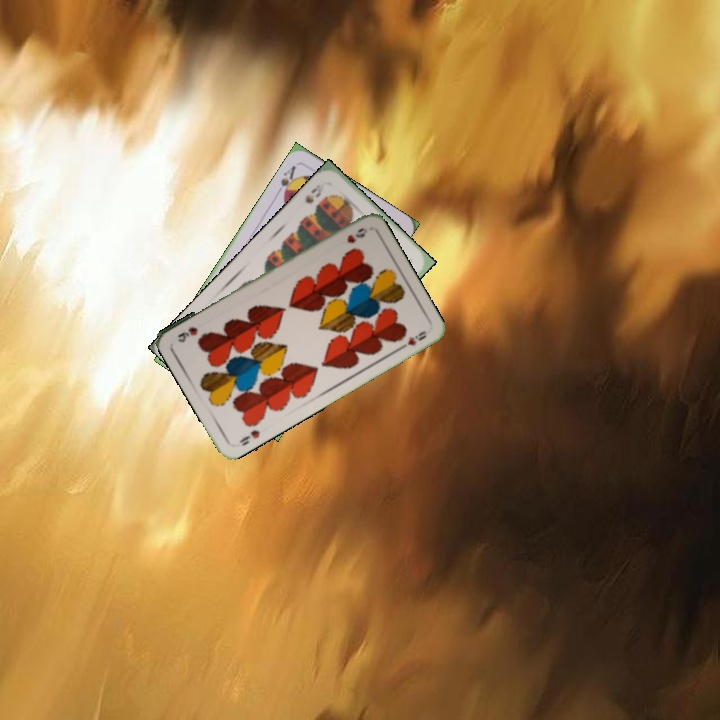H9: (343, 223, 370, 246), (235, 426, 263, 448)
S8: (301, 178, 328, 206)
SA: (272, 161, 300, 200)
